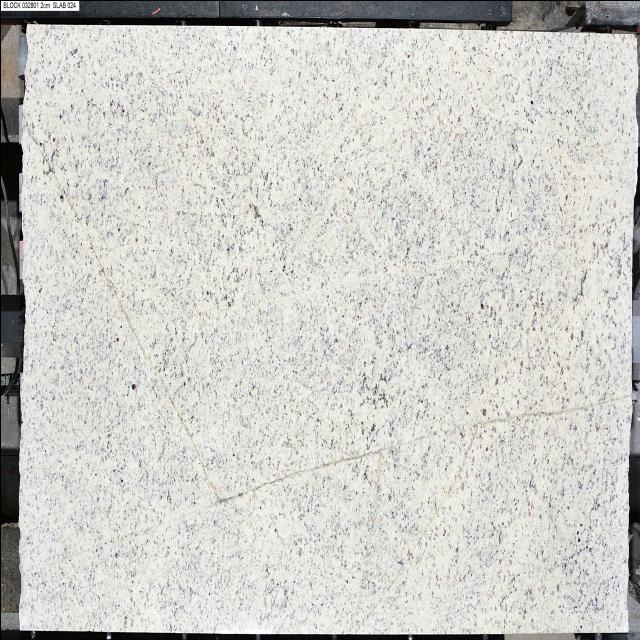chapa: (19, 25, 636, 632)
